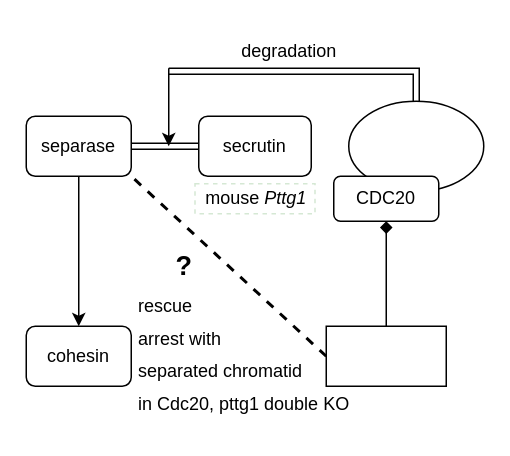
Image size: 510x456. Some labels were removed from this diagram. The centre of each missing label's shape, as x and y in pixels:
"APC/C" belongs at (x=415, y=145).
"SAC" belongs at (x=385, y=355).
